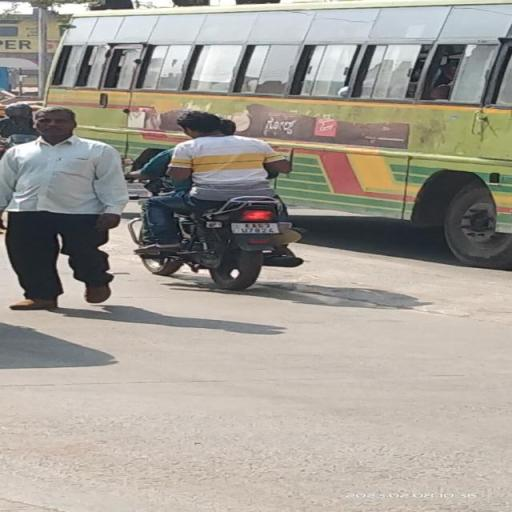bike: (128, 110, 310, 290)
numberplate: (232, 222, 278, 234)
withouthelmet: (178, 113, 219, 134)
